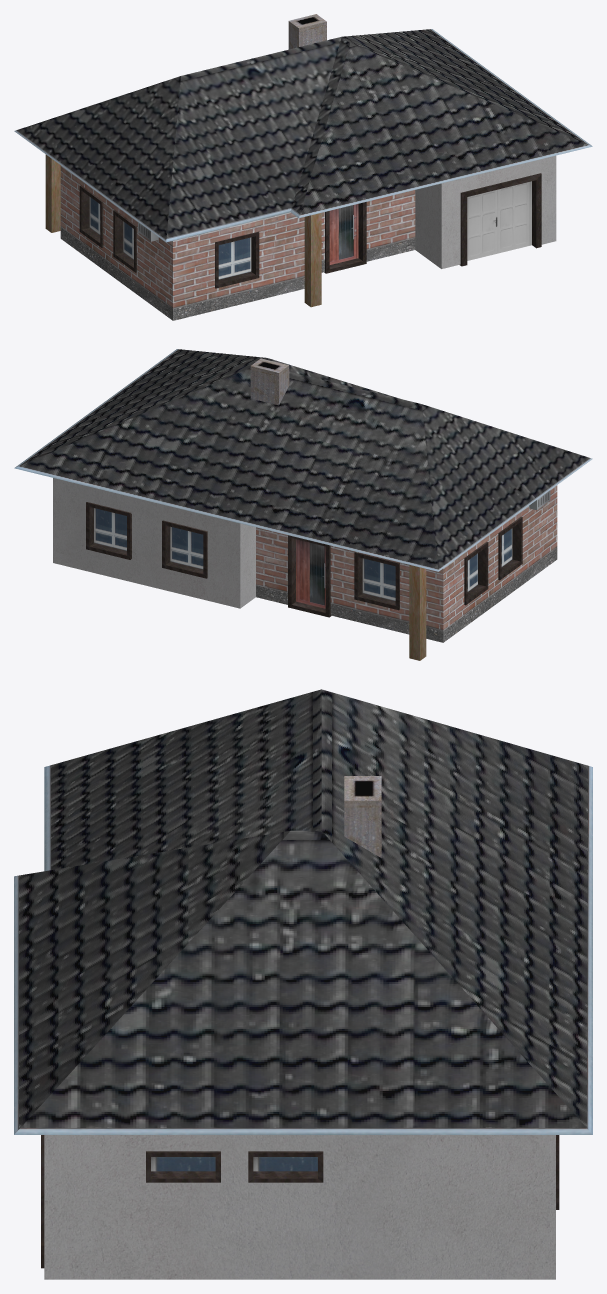
File: family_house_00.glb
3 renders of one model, top to bottom at view 1: azimuth 30°, elevation 25°; view 2: azimuth 150°, elevation 25°; view 3: azimuth 270°, elevation 25°, orthographic. The views are drawn at different scales.
Parts seen in each view (by area): view 1: house1_baked_Cube.029; view 2: house1_baked_Cube.029; view 3: house1_baked_Cube.029.
Boxes of the visible parts, bbox=[...] form: house1_baked_Cube.029: bbox=[14, 14, 592, 320]; house1_baked_Cube.029: bbox=[14, 349, 592, 660]; house1_baked_Cube.029: bbox=[14, 689, 592, 1279].
Bounding box in the file's own units: 4.11 × 1.87 × 2.73.
1 material, 1 textured.
